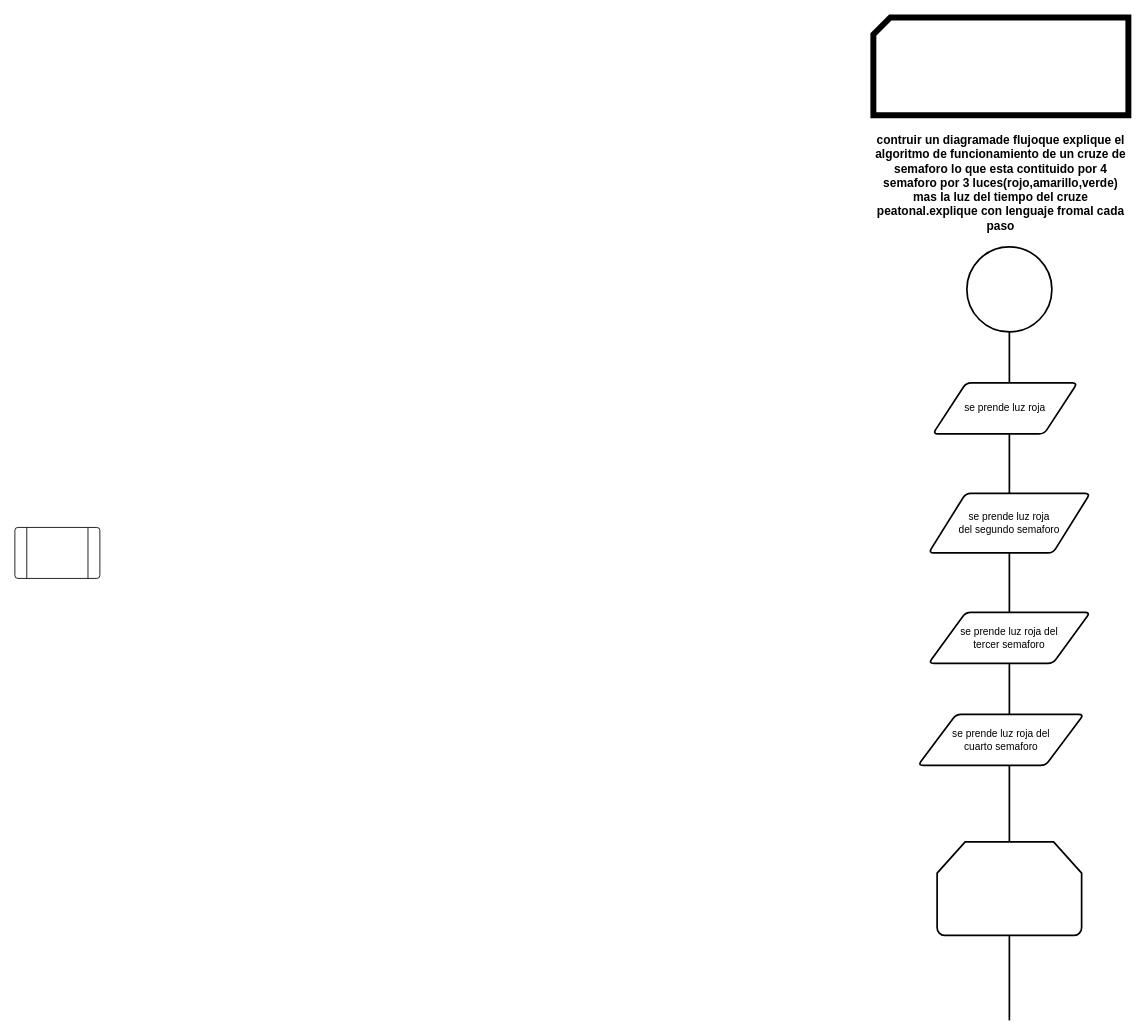
Image size: 1146x1036. Some labels were removed from this diagram. Each missing label, with the box of its shape:
inicia un bucle para que se repita lo siguiente: (936, 841, 1082, 936)
INICIO: (966, 246, 1052, 332)
